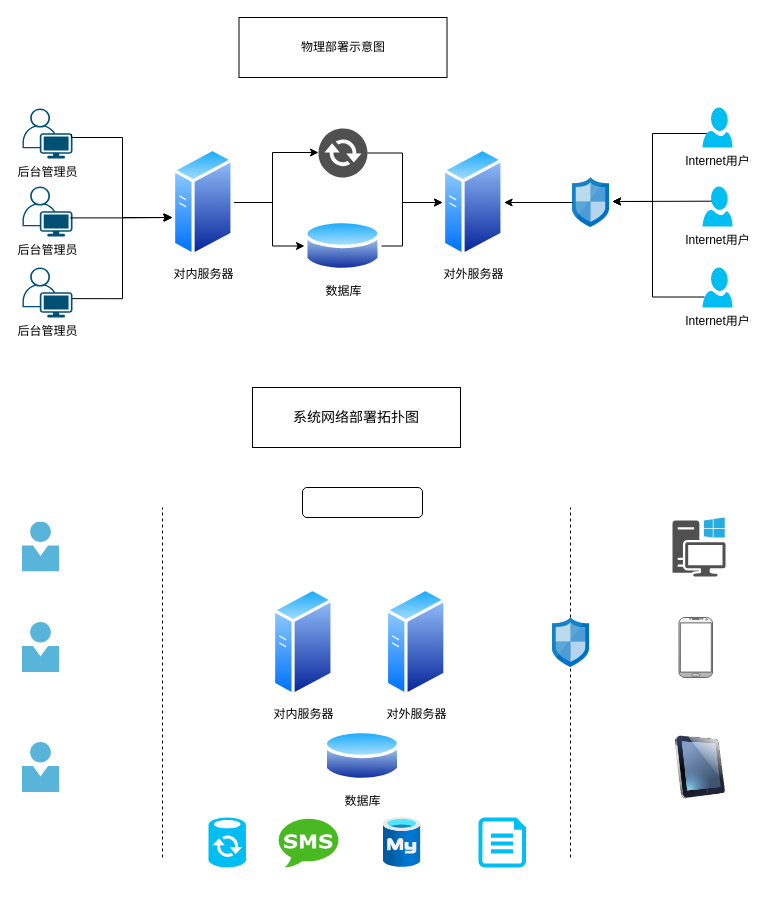
Some shapes in this 767 by 906 pixel diagram are drawn without their labels. The centre of each missing label's shape, as x and y in pixels:
"信息外网" goes at (362,502).
"同步服务" goes at (227,842).
"数据实时同步" goes at (342,152).
"数据服务（SQL）" goes at (401,842).
"文件服务" goes at (502,842).
"短信接口服务" goes at (308,842).
"防火墙" goes at (570,642).
